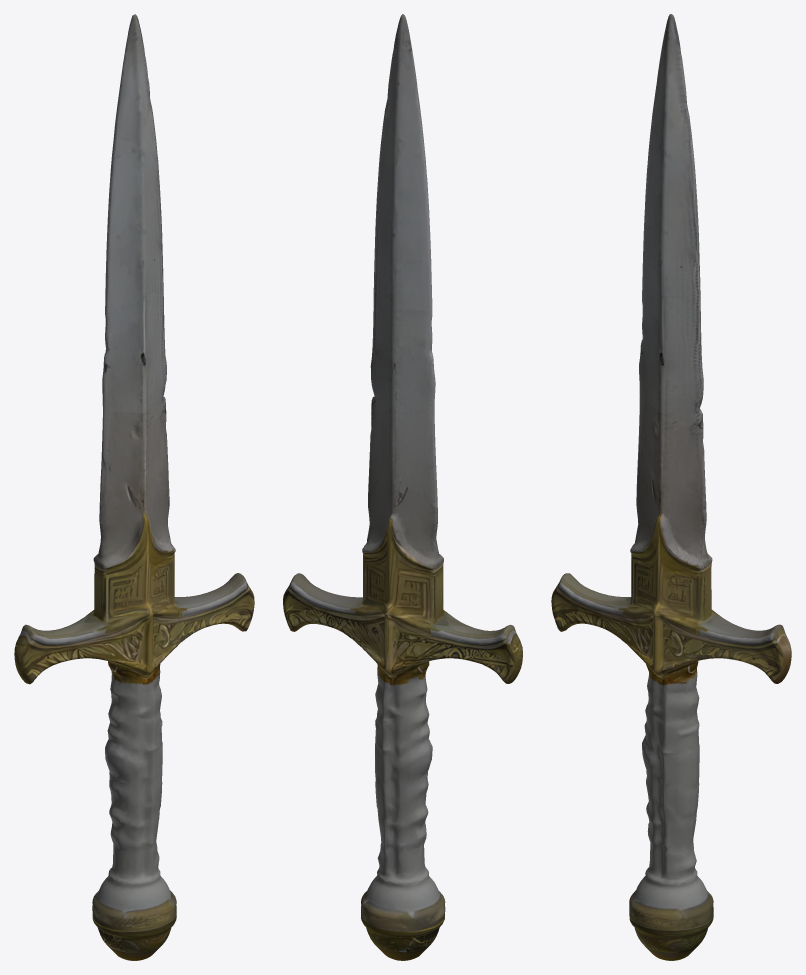
The model's file is dirk.glb.
3 renders of one model, left to right at view 1: azimuth 30°, elevation 25°; view 2: azimuth 150°, elevation 25°; view 3: azimuth 330°, elevation 25°, orthographic.
Visible parts, largest first — view 1: tripo_node_65a8c16a-23e8-484b-91f9-03a2dcd4c44a; view 2: tripo_node_65a8c16a-23e8-484b-91f9-03a2dcd4c44a; view 3: tripo_node_65a8c16a-23e8-484b-91f9-03a2dcd4c44a.
Part boxes in pixels (box(x1,y1,x2,y2)): tripo_node_65a8c16a-23e8-484b-91f9-03a2dcd4c44a: box(14, 14, 254, 960); tripo_node_65a8c16a-23e8-484b-91f9-03a2dcd4c44a: box(283, 14, 522, 960); tripo_node_65a8c16a-23e8-484b-91f9-03a2dcd4c44a: box(551, 14, 791, 960).
Size of the model in its own units: 0.2623 by 0.9997 by 0.0799.
1 material, 1 textured.
